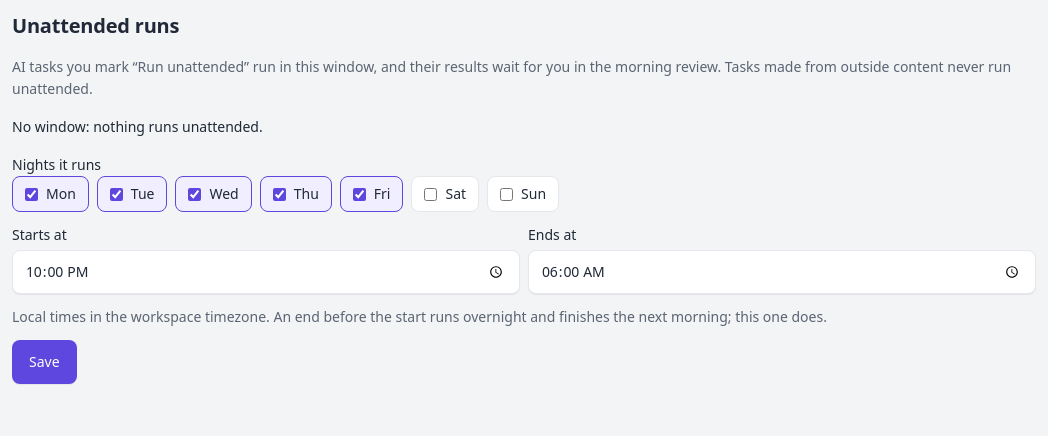
UnattendedSection › [P4-04][FR-4.5] set the workspace window, then turn it off
This screenshot has width=1048, height=436.
Check: the text "No window: nothing runs unattended." is shown, box 12,117 -> 263,136
Check: the checkbox named "Monday" is checked, box 25,188 -> 38,200
Click the checkbox named "Saturday" at [431, 194], box 424,188 -> 438,200
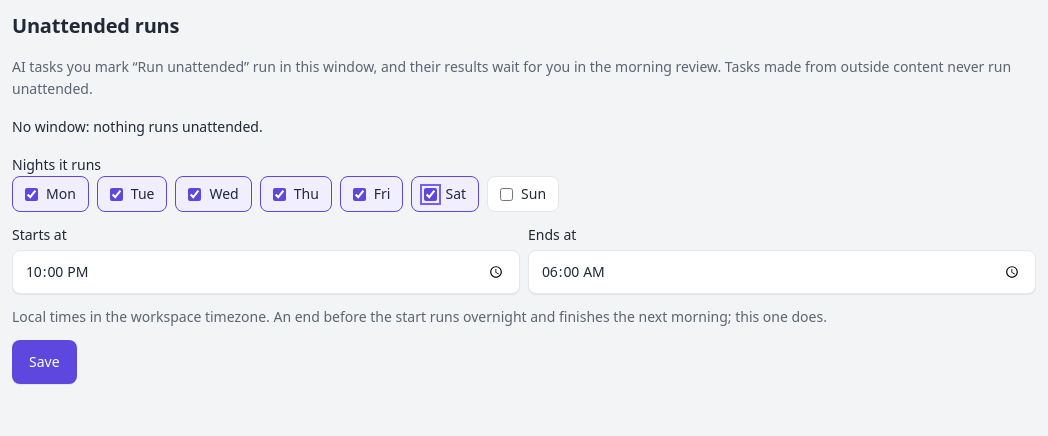
Replace the text in the time field labelled "Starts at" with "23:00" at [266, 272], box 12,250 -> 520,294
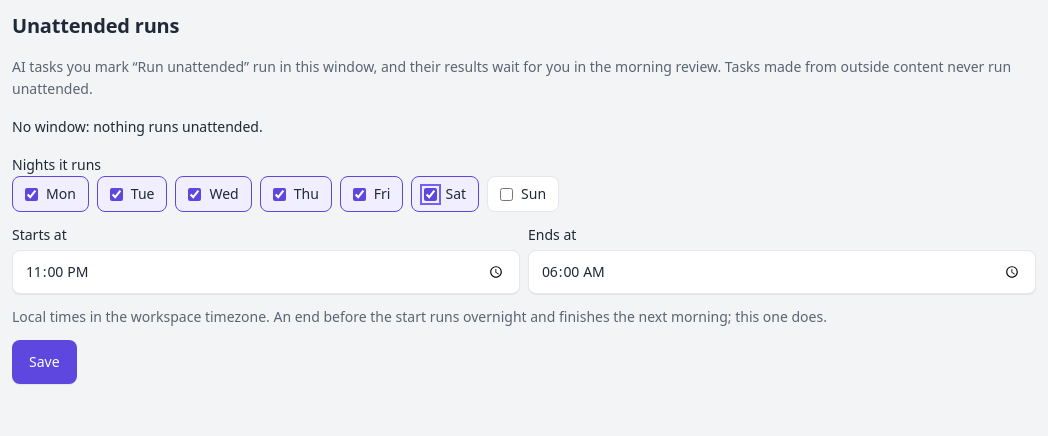
Click the button "Save" at [44, 362], box 12,340 -> 77,384
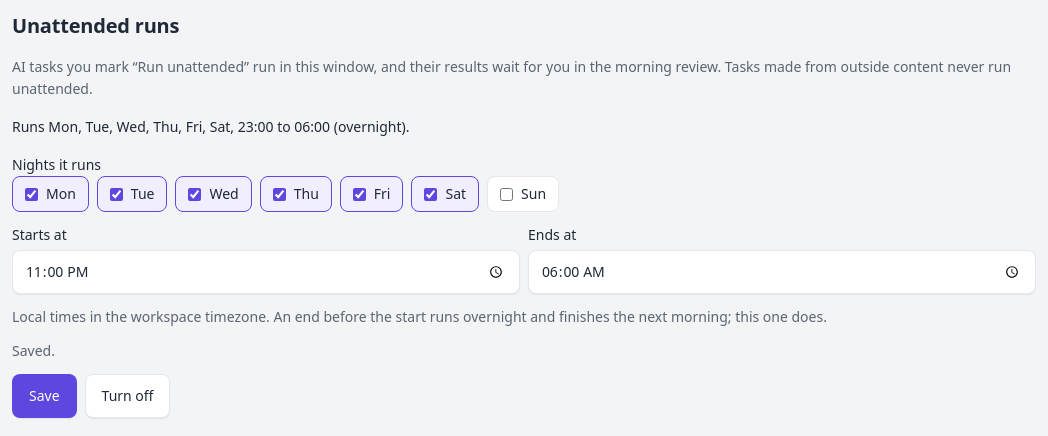
Check: the message reads "Saved.", box 12,341 -> 55,360
Check: the text "Runs Mon, Tue, Wed, Thu, Fri, Sat, 23:00 to 06:00 (overnight)." is shown, box 12,117 -> 410,136
Click the button "Turn off" at [128, 396], box 85,374 -> 170,418
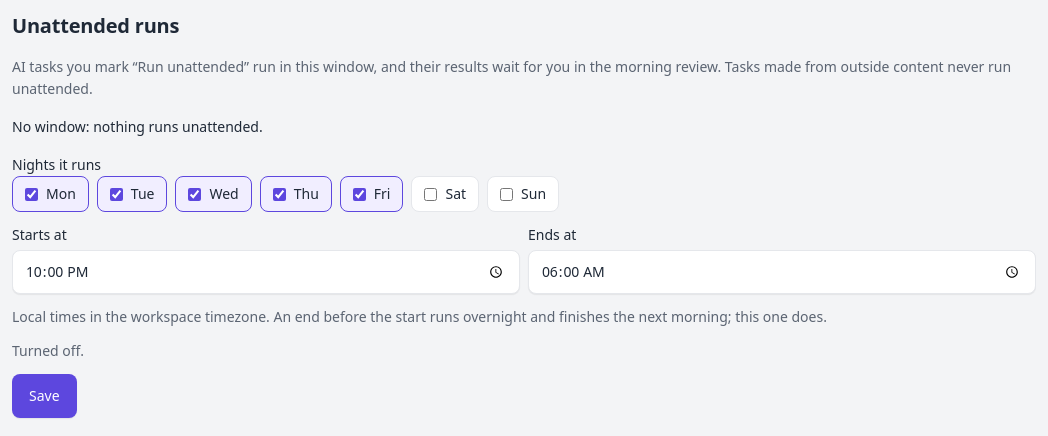
Check: the text "Turned off." is shown, box 12,341 -> 84,360
Check: the text "No window: nothing runs unattended." is shown, box 12,117 -> 263,136
